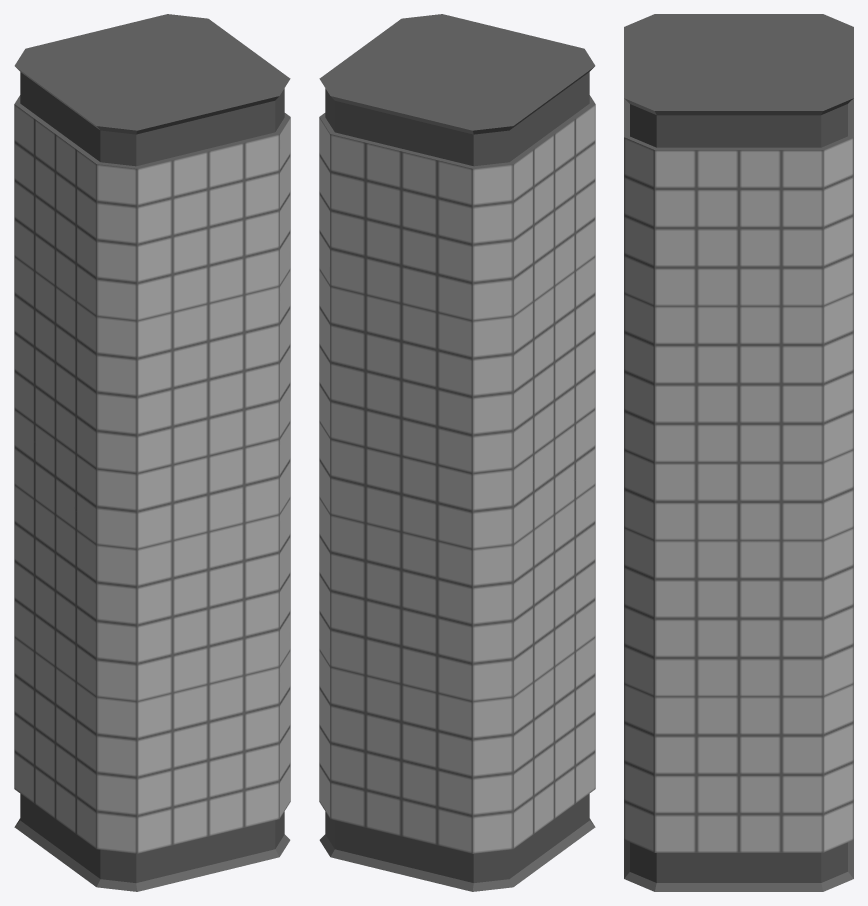
File: SW_ENV_PillarTiled_Variant01.fbx
3 views of the same model, side by side, from view 1: azimuth 30°, elevation 25°; view 2: azimuth 150°, elevation 25°; view 3: azimuth 270°, elevation 25° (orthographic). The views are drawn at different scales.
Parts seen in each view (by area): view 1: SW_ENV_PillarTiled_Variant01; view 2: SW_ENV_PillarTiled_Variant01; view 3: SW_ENV_PillarTiled_Variant01.
Boxes of the visible parts, x1,y1,x2,y2 form: SW_ENV_PillarTiled_Variant01: (14, 14, 290, 891); SW_ENV_PillarTiled_Variant01: (319, 14, 595, 891); SW_ENV_PillarTiled_Variant01: (624, 14, 853, 891).
Bounding box in the file's own units: 80 × 300 × 80.
